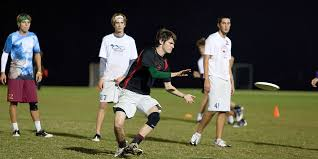disc: (253, 81, 280, 92)
